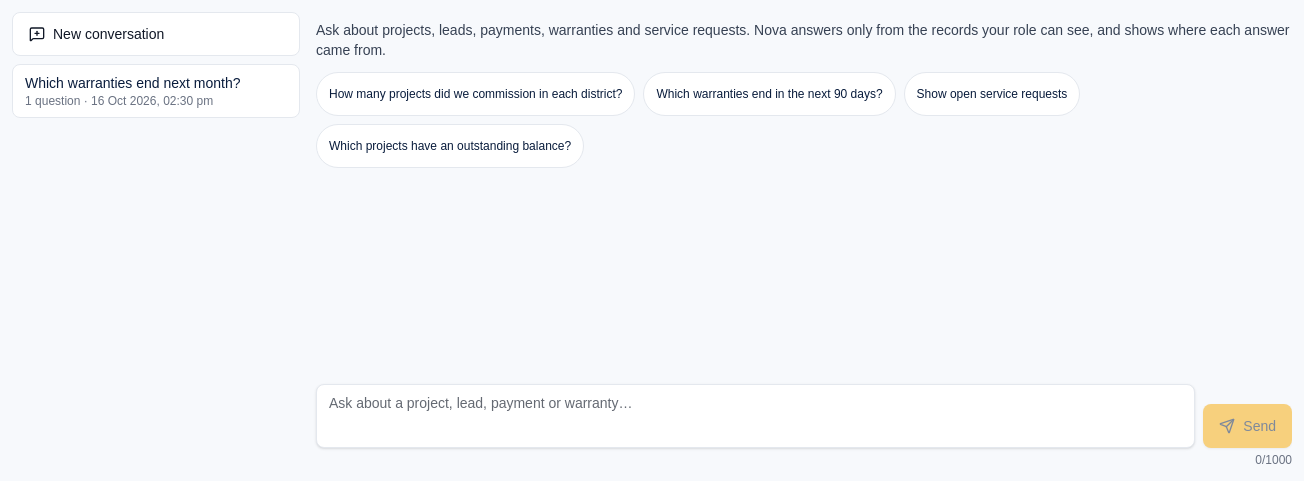
statuses › refused is neutral
Type "delete lead 3" into the text box named "Your question for Nova" at (756, 416), box [316,384,1195,448]
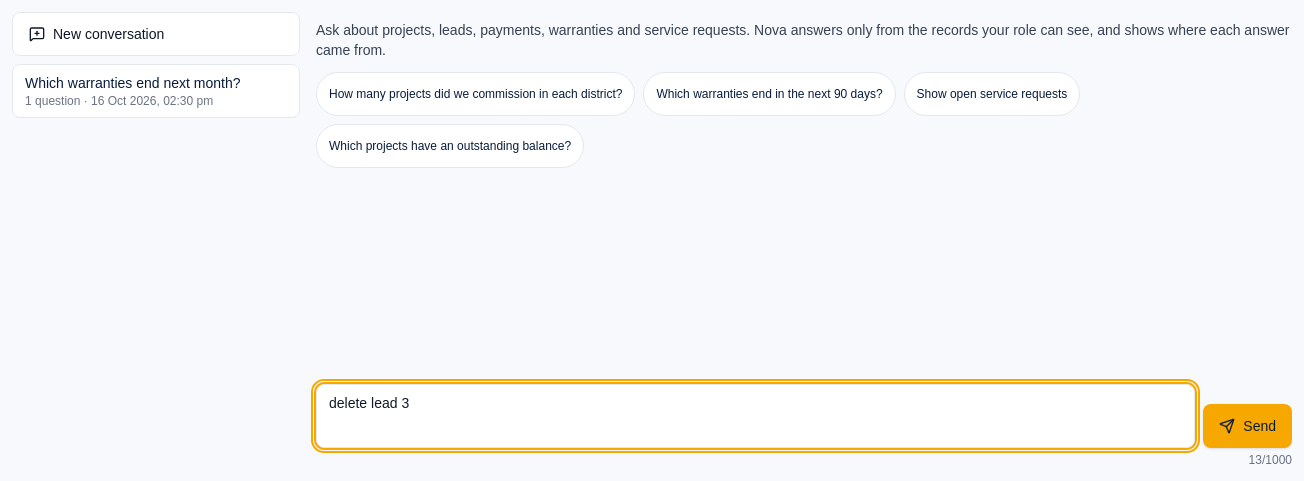
Click the button with aria-label "Send question" at (1248, 426), box [1203,404,1292,448]
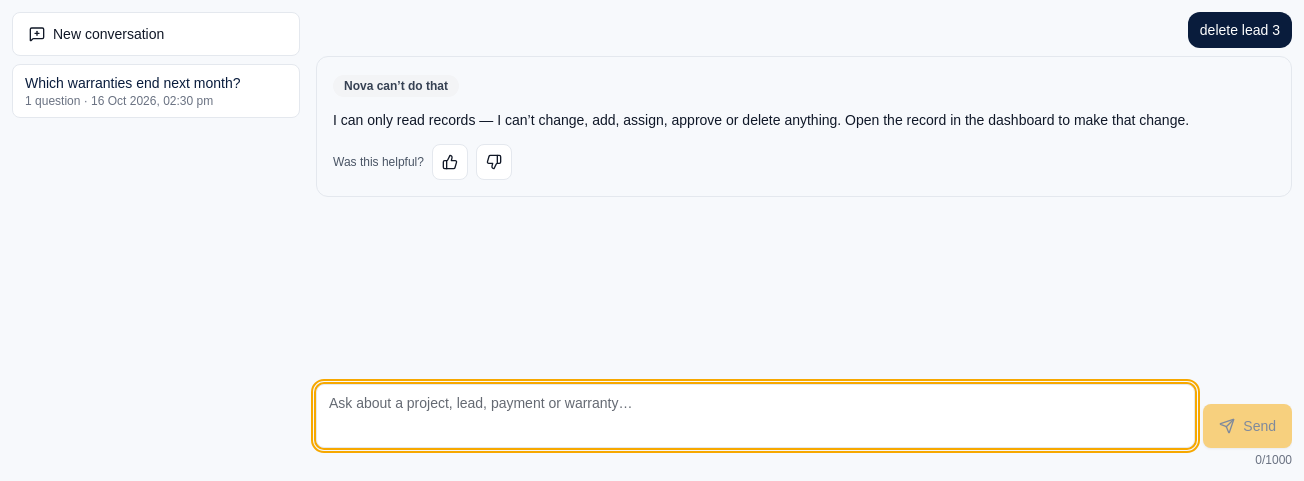
Result: the text with test id "status-badge" reads "Nova can’t do that" at [344,79,448,93]
Result: the element with test id "nova-answer" shows "I can only read records" at [333,112,1189,128]
